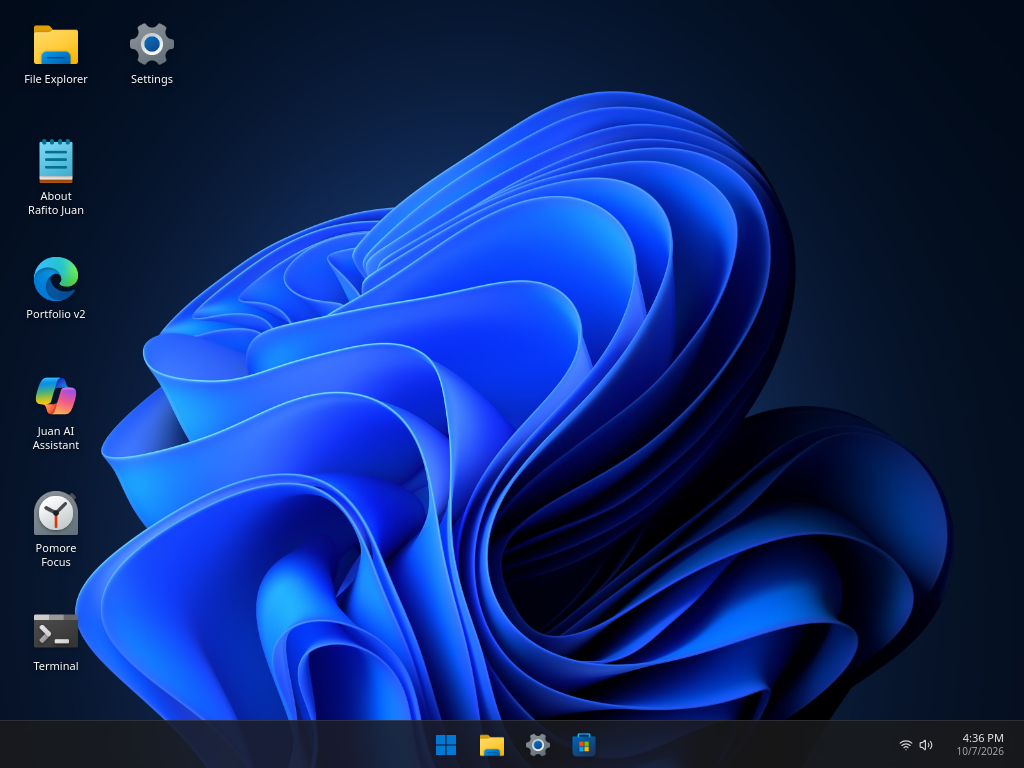
Test: Desktop Component › double clicking a shortcut opens window in useOSStore
Double-click the button "About Rafito Juan" at x=56, y=181, box left=16, top=133, right=96, bottom=229
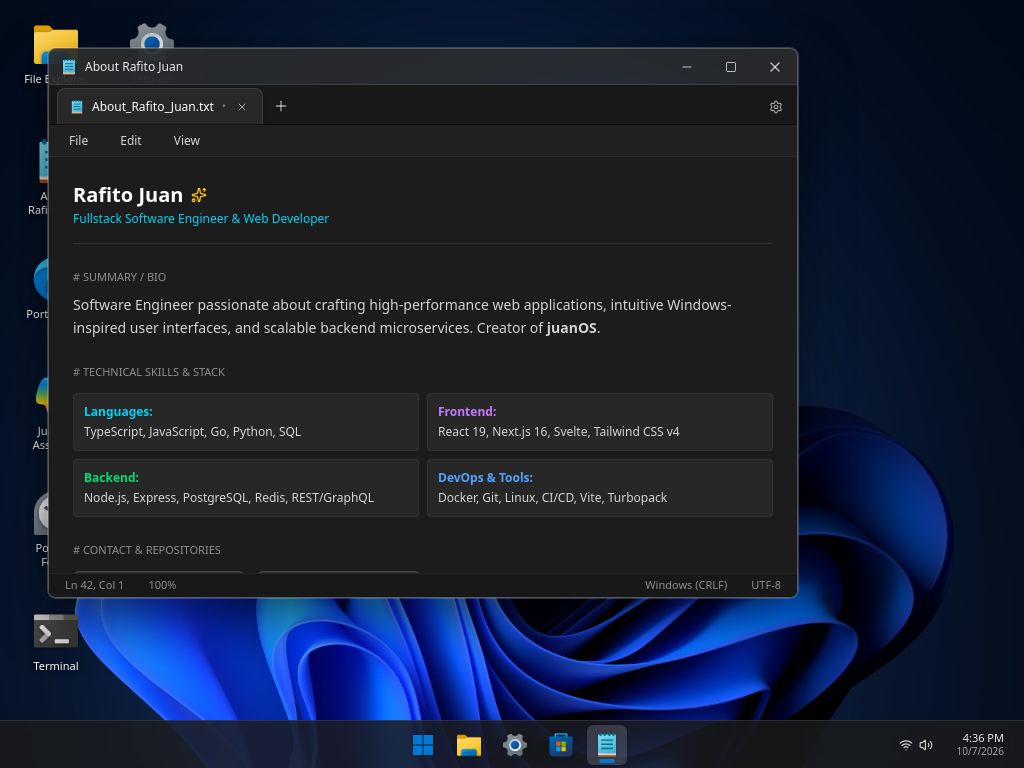
Expected: the heading "Rafito Juan" is shown, left=73, top=181, right=207, bottom=208
